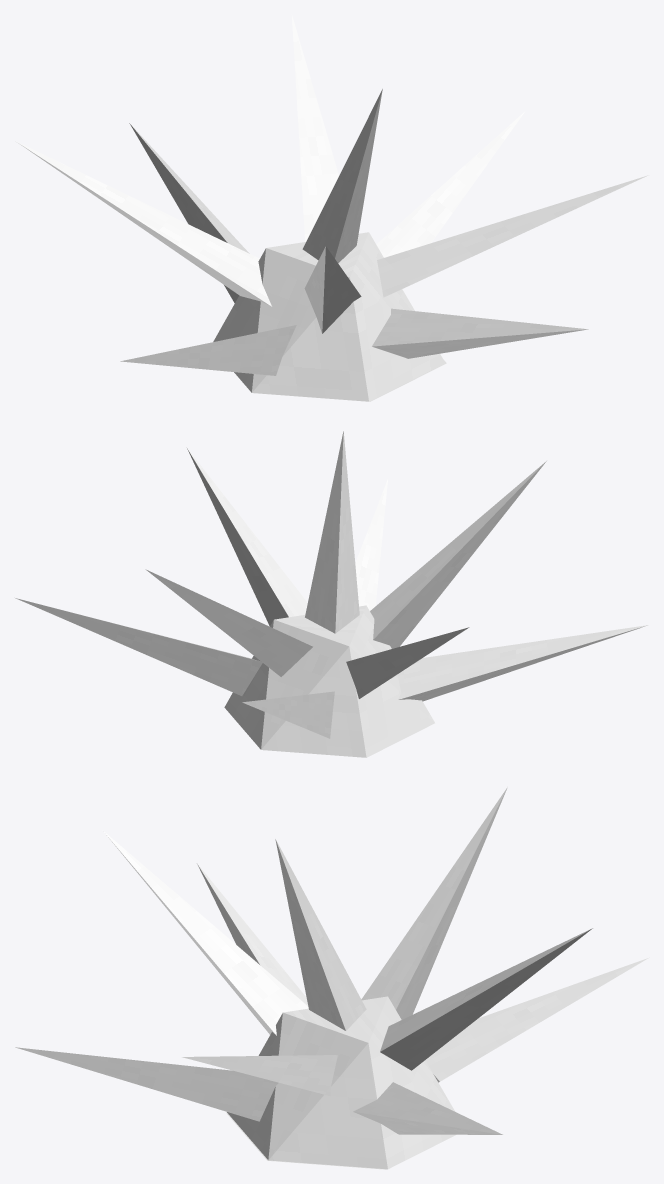
File: SeaUrchin.glb
The picture shows the model from 3 angles, top to bottom: view 1: azimuth 30°, elevation 25°; view 2: azimuth 150°, elevation 25°; view 3: azimuth 270°, elevation 25°; orthographic projection. The views are drawn at different scales.
Visible parts, largest first — view 1: Urchin; view 2: Urchin; view 3: Urchin.
Part boxes in pixels (x1,y1,x2,y2): Urchin: (15, 15, 648, 401); Urchin: (15, 431, 648, 757); Urchin: (15, 787, 649, 1169).
Size of the model in its own units: 0.5144 by 0.2533 by 0.4988.
1 material, 1 textured.
